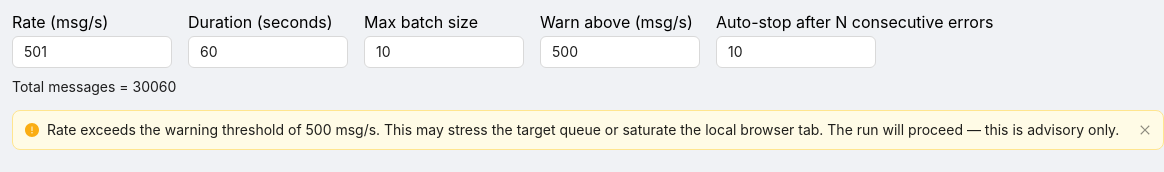
Test: RateControls › warning is dismissible
Step 1. Click the button named "close" → (1145, 130), box [1139,124,1151,136]
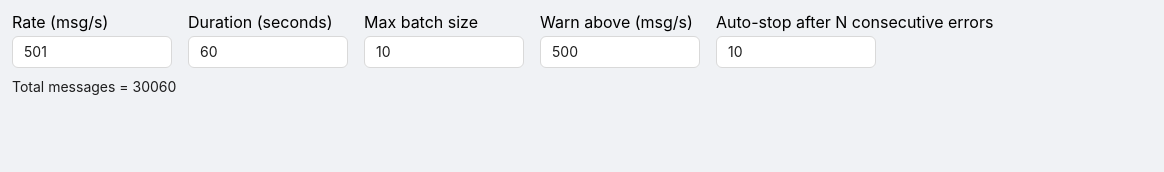
Expected: the element with test id "rate-warning" is gone
